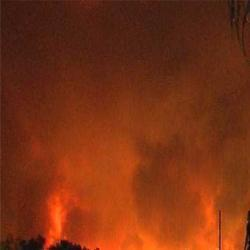fire: (41, 195, 65, 241), (136, 234, 192, 250)
